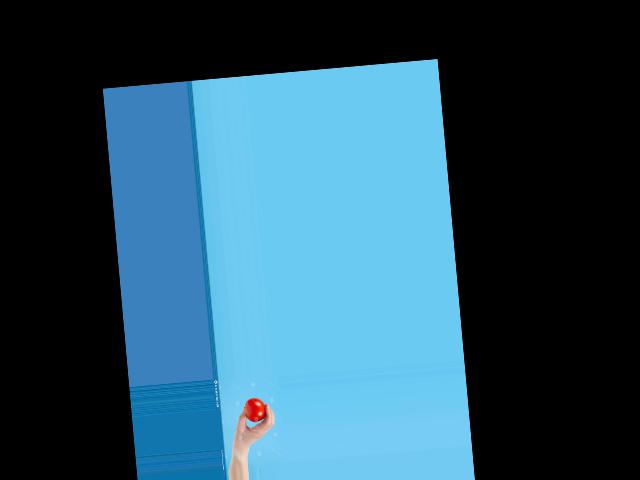tomato: (244, 397, 266, 422)
